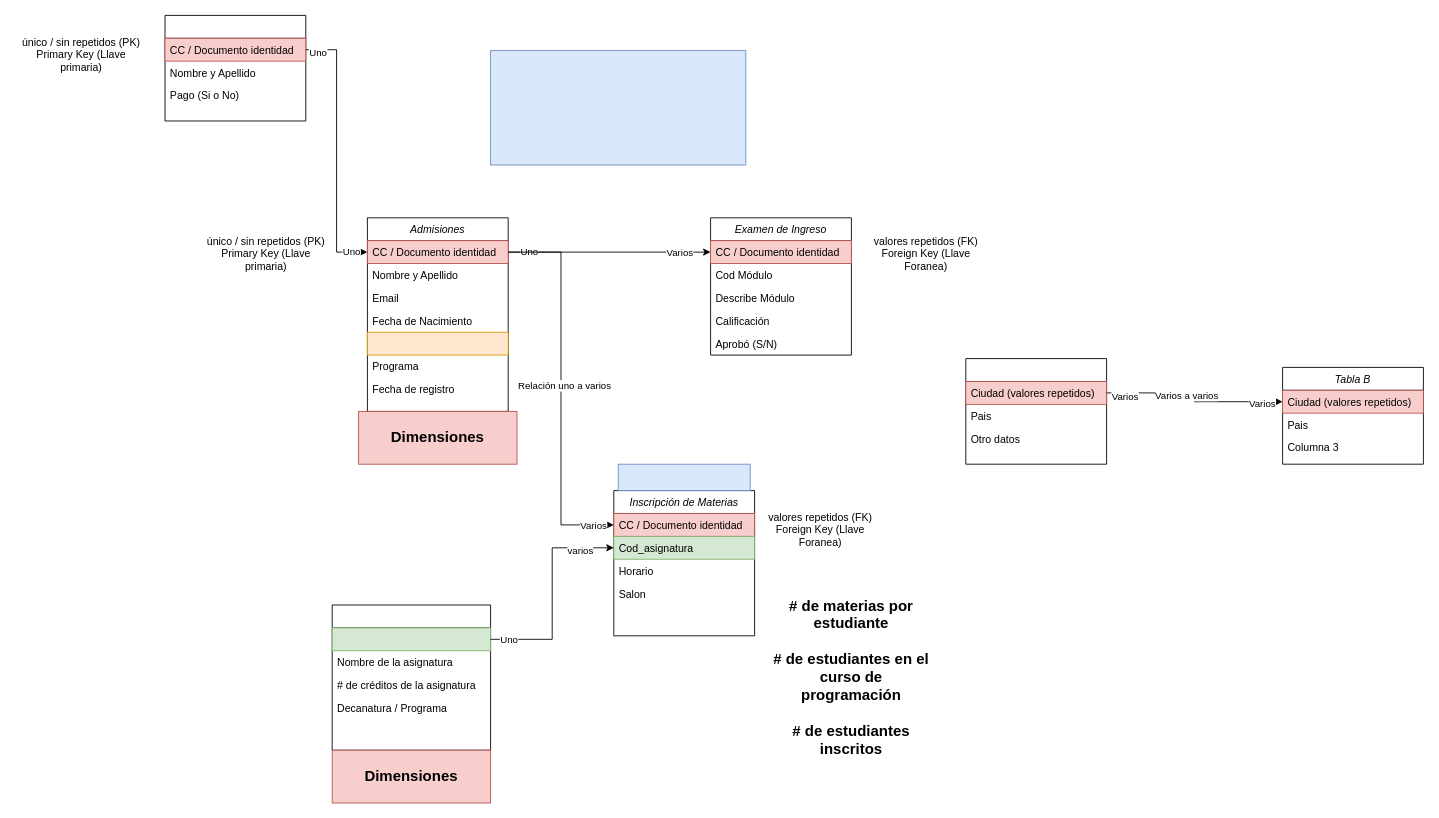
The diagram is 1439 pixels wide and 818 high, and some of its shapes have lost their labels. The box of each missing label's shape, as (x1, y1, x2, y2) in pixels:
Cod Asignatura: (331, 627, 491, 651)
Diagramas de entidad - relación Universidad: (490, 50, 746, 165)
Hechos / Facts: (617, 463, 750, 491)
Materias: (331, 604, 491, 750)
Mayor de edad: (367, 331, 508, 355)
Pago inscripción: (164, 15, 306, 121)
Tabla A: (965, 358, 1107, 464)
